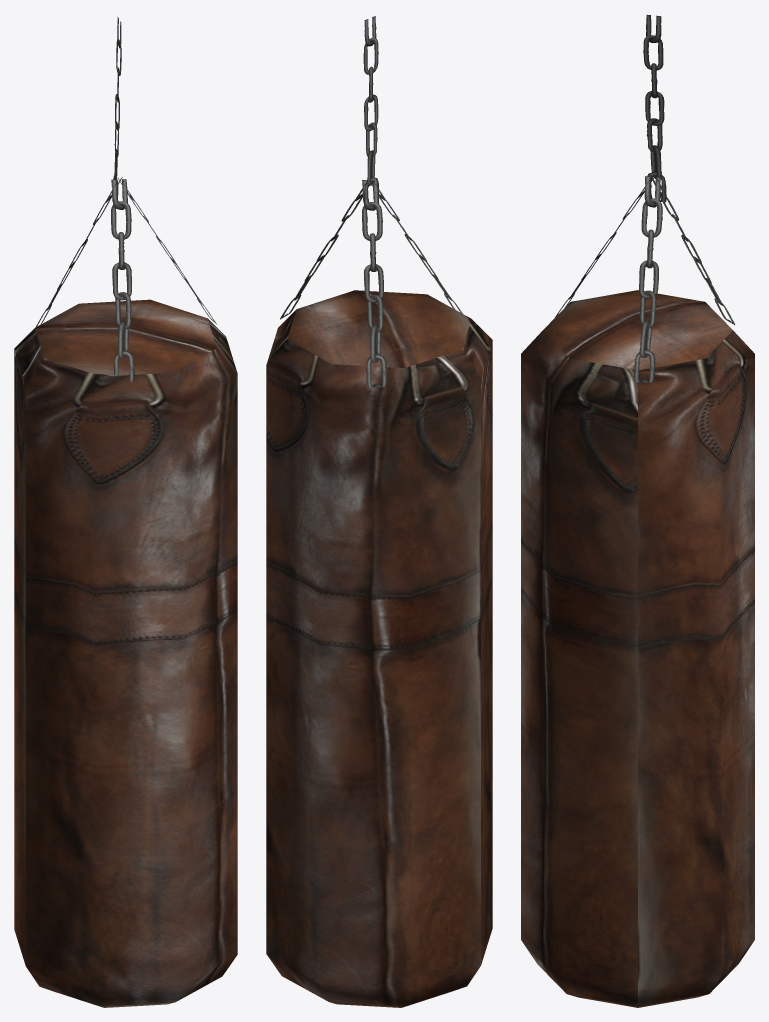
Rendered from punching_bag.fbx.
3 renders of one model, left to right at view 1: azimuth 30°, elevation 25°; view 2: azimuth 150°, elevation 25°; view 3: azimuth 270°, elevation 25°, orthographic.
Parts seen in each view (by area): view 1: pPlane9; view 2: pPlane9; view 3: pPlane9.
Boxes of the visible parts, x1,y1,x2,y2 form: pPlane9: (14, 17, 237, 1007); pPlane9: (266, 16, 492, 1007); pPlane9: (521, 14, 754, 1007).
Size of the model in its own units: 68.5 by 314 by 68.5.
